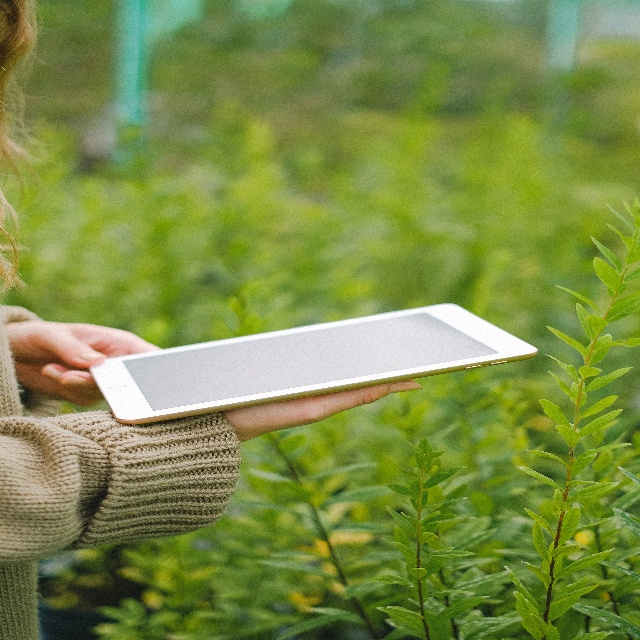Sin_guantes: (219, 376, 426, 447), (4, 321, 162, 408)
